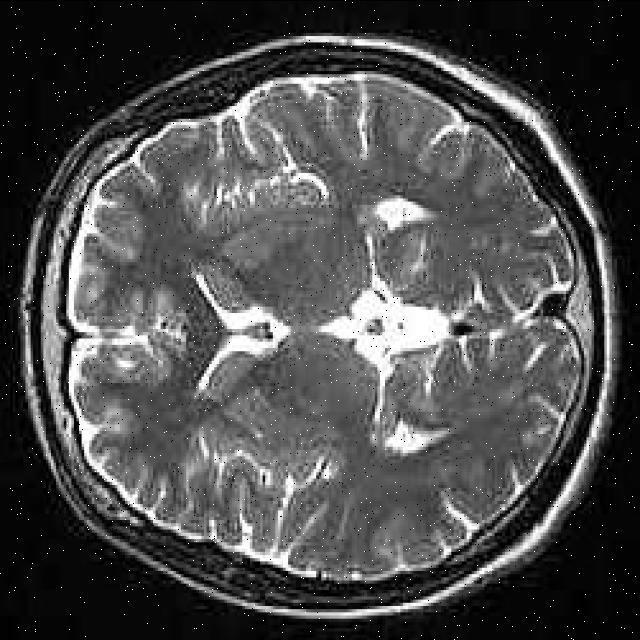No_Tumor: (21, 36, 617, 618)
